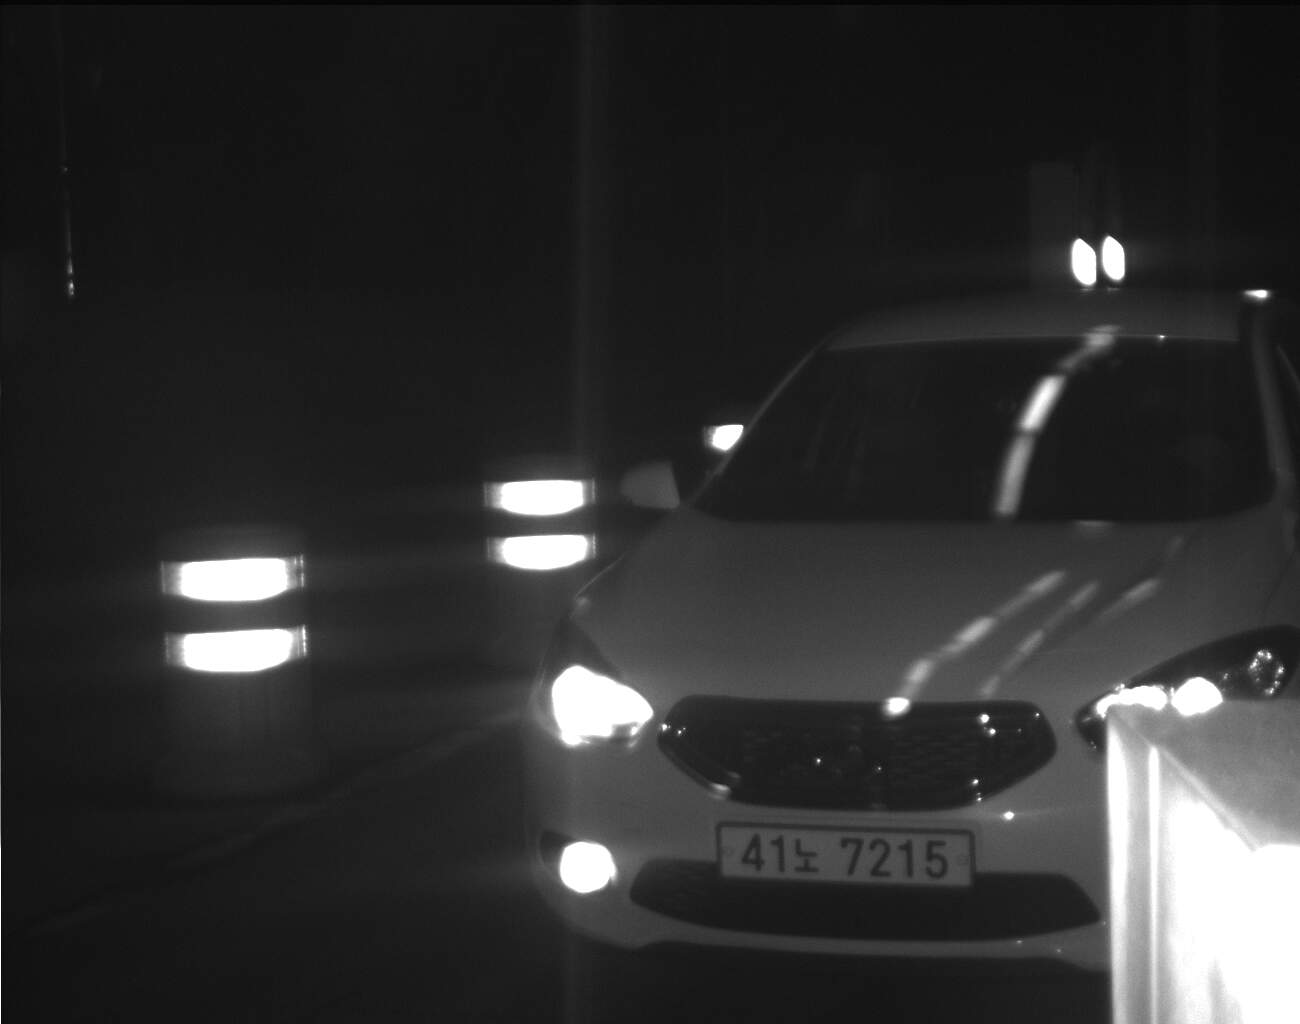car: (518, 286, 1300, 981)
plate: (712, 821, 978, 891)
